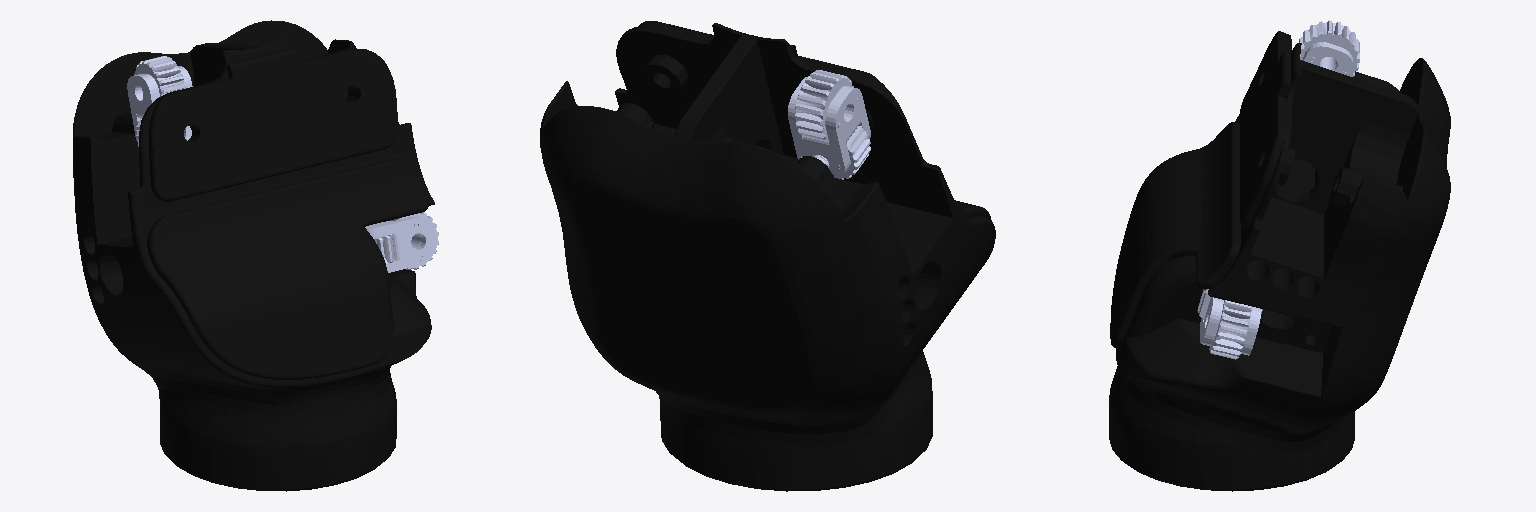
robot.urdf — HX01P1.2_URDF_2025_05_13:
<?xml version="1.0" encoding="utf-8"?>
<!-- This URDF was automatically created by SolidWorks to URDF Exporter! Originally created by [author] ([email redacted]) 
     Commit Version: 1.6.0-4-g7f85cfe  Build Version: 1.6.7995.38578
     For more information, please see http://wiki.ros.org/sw_urdf_exporter -->
<robot
  name="HX01P1.2_URDF_2025_05_13">
  <mujoco>
    <compiler meshdir="..\meshes" balanceinertia="false" discardvisual="false"/>
  </mujoco>
  <link
    name="base_link">
    <inertial>
      <origin
        xyz="-0.000143215433818502 0.0141338183242651 0.0442242892247222"
        rpy="0 0 0" />
      <mass
        value="0.411547465045791" />
      <inertia
        ixx="0.000457197745587714"
        ixy="-1.68236950016941E-05"
        ixz="-3.78293780992953E-06"
        iyy="0.000457189352520219"
        iyz="-0.000116176459874552"
        izz="0.000424192913814888" />
    </inertial>
    <visual>
      <origin
        xyz="0 0 0"
        rpy="0 0 0" />
      <geometry>
        <mesh
          filename="package://HX01P1.2_URDF_2025_05_13/meshes/base_link.STL" />
      </geometry>
      <material
        name="">
        <color
          rgba="0.101960784313725 0.101960784313725 0.101960784313725 1" />
      </material>
    </visual>
    <collision>
      <origin
        xyz="0 0 0"
        rpy="0 0 0" />
      <geometry>
        <mesh
          filename="package://HX01P1.2_URDF_2025_05_13/meshes/base_link.STL" />
      </geometry>
    </collision>
  </link>
  <link
    name="Finger1_MCP_Knuckel">
    <inertial>
      <origin
        xyz="0.00649999999999997 -4.95757603267977E-07 -4.95757603261038E-07"
        rpy="0 0 0" />
      <mass
        value="0.00436140331617378" />
      <inertia
        ixx="1.42005296546262E-07"
        ixy="5.07470404924568E-12"
        ixz="-5.07470404926806E-12"
        iyy="1.59847453396862E-07"
        iyz="-7.49873788604316E-13"
        izz="1.59847453396862E-07" />
    </inertial>
    <visual>
      <origin
        xyz="0 0 0"
        rpy="0 0 0" />
      <geometry>
        <mesh
          filename="package://HX01P1.2_URDF_2025_05_13/meshes/Finger1_MCP_Knuckel.STL" />
      </geometry>
      <material
        name="">
        <color
          rgba="0.792156862745098 0.819607843137255 0.933333333333333 1" />
      </material>
    </visual>
    <collision>
      <origin
        xyz="0 0 0"
        rpy="0 0 0" />
      <geometry>
        <mesh
          filename="package://HX01P1.2_URDF_2025_05_13/meshes/Finger1_MCP_Knuckel.STL" />
      </geometry>
    </collision>
  </link>
  <joint
    name="joint#1_finger1_abad"
    type="revolute">
    <origin
      xyz="0.03 -0.00029814 0.050502"
      rpy="-0.2618 0 0" />
    <parent
      link="base_link" />
    <child
      link="Finger1_MCP_Knuckel" />
    <axis
      xyz="0 0 -1" />
    <limit
      lower="0"
      upper="1.4"
      effort="0"
      velocity="0" />
  </joint>
  <link
    name="Finger1_Proxi_Phalanx">
    <inertial>
      <origin
        xyz="8.04437807129868E-06 0.00913751157403347 0.0219985394784356"
        rpy="0 0 0" />
      <mass
        value="0.0202104744455603" />
      <inertia
        ixx="5.32127743533455E-06"
        ixy="1.26378101777052E-09"
        ixz="2.0970630159864E-09"
        iyy="5.59777226199484E-06"
        iyz="5.34441860232371E-08"
        izz="2.42862434732005E-06" />
    </inertial>
    <visual>
      <origin
        xyz="0 0 0"
        rpy="0 0 0" />
      <geometry>
        <mesh
          filename="package://HX01P1.2_URDF_2025_05_13/meshes/Finger1_Proxi_Phalanx.STL" />
      </geometry>
      <material
        name="">
        <color
          rgba="0.792156862745098 0.819607843137255 0.933333333333333 1" />
      </material>
    </visual>
    <collision>
      <origin
        xyz="0 0 0"
        rpy="0 0 0" />
      <geometry>
        <mesh
          filename="package://HX01P1.2_URDF_2025_05_13/meshes/Finger1_Proxi_Phalanx.STL" />
      </geometry>
    </collision>
  </link>
  <joint
    name="joint#2_finger1_flex1"
    type="revolute">
    <origin
      xyz="0.013 0 0"
      rpy="-1.5708 0 -1.5708" />
    <parent
      link="Finger1_MCP_Knuckel" />
    <child
      link="Finger1_Proxi_Phalanx" />
    <axis
      xyz="1 0 0" />
    <limit
      lower="0"
      upper="2.1"
      effort="0"
      velocity="0" />
  </joint>
  <link
    name="Finger1_Dist_Phalanx">
    <inertial>
      <origin
        xyz="4.96571341867778E-05 0.0071408733600678 0.0180640229989453"
        rpy="0 0 0" />
      <mass
        value="0.0176551853985203" />
      <inertia
        ixx="4.02690213635632E-06"
        ixy="-1.01042023962262E-08"
        ixz="-7.47798915710811E-10"
        iyy="4.21969356707779E-06"
        iyz="-1.82117362318589E-07"
        izz="1.67102176668181E-06" />
    </inertial>
    <visual>
      <origin
        xyz="0 0 0"
        rpy="0 0 0" />
      <geometry>
        <mesh
          filename="package://HX01P1.2_URDF_2025_05_13/meshes/Finger1_Dist_Phalanx.STL" />
      </geometry>
      <material
        name="">
        <color
          rgba="0.792156862745098 0.819607843137255 0.933333333333333 1" />
      </material>
    </visual>
    <collision>
      <origin
        xyz="0 0 0"
        rpy="0 0 0" />
      <geometry>
        <mesh
          filename="package://HX01P1.2_URDF_2025_05_13/meshes/Finger1_Dist_Phalanx.STL" />
      </geometry>
    </collision>
  </link>
  <joint
    name="joint#3_finger1_flex2"
    type="revolute">
    <origin
      xyz="0 0.006 0.0659"
      rpy="0 0 0" />
    <parent
      link="Finger1_Proxi_Phalanx" />
    <child
      link="Finger1_Dist_Phalanx" />
    <axis
      xyz="-1 0 0" />
    <limit
      lower="0"
      upper="2.1"
      effort="0"
      velocity="0" />
  </joint>
  <link
    name="Finger2_Proxi_Phalanx">
    <inertial>
      <origin
        xyz="8.04448574115088E-06 0.0091375125667262 0.0219985390127726"
        rpy="0 0 0" />
      <mass
        value="0.020210475315763" />
      <inertia
        ixx="5.32127733054558E-06"
        ixy="1.26416201137062E-09"
        ixz="2.09727817015598E-09"
        iyy="5.59777205951082E-06"
        iyz="5.34444272839264E-08"
        izz="2.42862435983311E-06" />
    </inertial>
    <visual>
      <origin
        xyz="0 0 0"
        rpy="0 0 0" />
      <geometry>
        <mesh
          filename="package://HX01P1.2_URDF_2025_05_13/meshes/Finger2_Proxi_Phalanx.STL" />
      </geometry>
      <material
        name="">
        <color
          rgba="0.792156862745098 0.819607843137255 0.933333333333333 1" />
      </material>
    </visual>
    <collision>
      <origin
        xyz="0 0 0"
        rpy="0 0 0" />
      <geometry>
        <mesh
          filename="package://HX01P1.2_URDF_2025_05_13/meshes/Finger2_Proxi_Phalanx.STL" />
      </geometry>
    </collision>
  </link>
  <joint
    name="joint#4_finger2_flex1"
    type="revolute">
    <origin
      xyz="0.03 0.027125 0.10334"
      rpy="-0.34907 0 0" />
    <parent
      link="base_link" />
    <child
      link="Finger2_Proxi_Phalanx" />
    <axis
      xyz="1 0 0" />
    <limit
      lower="0"
      upper="2.1"
      effort="0"
      velocity="0" />
  </joint>
  <link
    name="Finger2_Dist_Phalanx">
    <inertial>
      <origin
        xyz="4.96543147745637E-05 0.00714087589106065 0.0180640063475071"
        rpy="0 0 0" />
      <mass
        value="0.017655175308132" />
      <inertia
        ixx="4.02689920264768E-06"
        ixy="-1.01046485372329E-08"
        ixz="-7.46802878445269E-10"
        iyy="4.21968941110657E-06"
        iyz="-1.82117885239304E-07"
        izz="1.67102281536553E-06" />
    </inertial>
    <visual>
      <origin
        xyz="0 0 0"
        rpy="0 0 0" />
      <geometry>
        <mesh
          filename="package://HX01P1.2_URDF_2025_05_13/meshes/Finger2_Dist_Phalanx.STL" />
      </geometry>
      <material
        name="">
        <color
          rgba="0.792156862745098 0.819607843137255 0.933333333333333 1" />
      </material>
    </visual>
    <collision>
      <origin
        xyz="0 0 0"
        rpy="0 0 0" />
      <geometry>
        <mesh
          filename="package://HX01P1.2_URDF_2025_05_13/meshes/Finger2_Dist_Phalanx.STL" />
      </geometry>
    </collision>
  </link>
  <joint
    name="joint#5_finger2_flex2"
    type="revolute">
    <origin
      xyz="0 0.006 0.0659"
      rpy="0 0 0" />
    <parent
      link="Finger2_Proxi_Phalanx" />
    <child
      link="Finger2_Dist_Phalanx" />
    <axis
      xyz="-1 0 0" />
    <limit
      lower="0"
      upper="2.1"
      effort="0"
      velocity="0" />
  </joint>
  <link
    name="Finger3_MCP_Knuckel">
    <inertial>
      <origin
        xyz="4.95757603306141E-07 4.95757603160424E-07 0.00650000000000001"
        rpy="0 0 0" />
      <mass
        value="0.00436140331617378" />
      <inertia
        ixx="1.59847453396862E-07"
        ixy="-7.4987378861667E-13"
        ixz="-5.07470404925765E-12"
        iyy="1.59847453396862E-07"
        iyz="5.07470404926168E-12"
        izz="1.42005296546262E-07" />
    </inertial>
    <visual>
      <origin
        xyz="0 0 0"
        rpy="0 0 0" />
      <geometry>
        <mesh
          filename="package://HX01P1.2_URDF_2025_05_13/meshes/Finger3_MCP_Knuckel.STL" />
      </geometry>
      <material
        name="">
        <color
          rgba="0.792156862745098 0.819607843137255 0.933333333333333 1" />
      </material>
    </visual>
    <collision>
      <origin
        xyz="0 0 0"
        rpy="0 0 0" />
      <geometry>
        <mesh
          filename="package://HX01P1.2_URDF_2025_05_13/meshes/Finger3_MCP_Knuckel.STL" />
      </geometry>
    </collision>
  </link>
  <joint
    name="joint#6_finger3_abad"
    type="revolute">
    <origin
      xyz="-0.024 0.022678 0.091124"
      rpy="-0.34907 0 0" />
    <parent
      link="base_link" />
    <child
      link="Finger3_MCP_Knuckel" />
    <axis
      xyz="0 1 0" />
    <limit
      lower="-0.79"
      upper="0.26"
      effort="0"
      velocity="0" />
  </joint>
  <link
    name="Finger3_Proxi_Phalanx">
    <inertial>
      <origin
        xyz="8.04448574123068E-06 0.00913751256672598 0.0219985390127725"
        rpy="0 0 0" />
      <mass
        value="0.020210475315763" />
      <inertia
        ixx="5.32127733054557E-06"
        ixy="1.26416201137047E-09"
        ixz="2.09727817015492E-09"
        iyy="5.59777205951081E-06"
        iyz="5.34444272839268E-08"
        izz="2.42862435983311E-06" />
    </inertial>
    <visual>
      <origin
        xyz="0 0 0"
        rpy="0 0 0" />
      <geometry>
        <mesh
          filename="package://HX01P1.2_URDF_2025_05_13/meshes/Finger3_Proxi_Phalanx.STL" />
      </geometry>
      <material
        name="">
        <color
          rgba="0.792156862745098 0.819607843137255 0.933333333333333 1" />
      </material>
    </visual>
    <collision>
      <origin
        xyz="0 0 0"
        rpy="0 0 0" />
      <geometry>
        <mesh
          filename="package://HX01P1.2_URDF_2025_05_13/meshes/Finger3_Proxi_Phalanx.STL" />
      </geometry>
    </collision>
  </link>
  <joint
    name="joint#7_finger3_flex1"
    type="revolute">
    <origin
      xyz="0 0 0.013"
      rpy="0 0 0" />
    <parent
      link="Finger3_MCP_Knuckel" />
    <child
      link="Finger3_Proxi_Phalanx" />
    <axis
      xyz="1 0 0" />
    <limit
      lower="0"
      upper="2.1"
      effort="0"
      velocity="0" />
  </joint>
  <link
    name="Finger3_Dist_Phalanx">
    <inertial>
      <origin
        xyz="4.96543147744909E-05 0.00714087589106031 0.0180640063475071"
        rpy="0 0 0" />
      <mass
        value="0.017655175308132" />
      <inertia
        ixx="4.02689920264775E-06"
        ixy="-1.01046485372319E-08"
        ixz="-7.46802878440764E-10"
        iyy="4.21968941110661E-06"
        iyz="-1.82117885239176E-07"
        izz="1.67102281536556E-06" />
    </inertial>
    <visual>
      <origin
        xyz="0 0 0"
        rpy="0 0 0" />
      <geometry>
        <mesh
          filename="package://HX01P1.2_URDF_2025_05_13/meshes/Finger3_Dist_Phalanx.STL" />
      </geometry>
      <material
        name="">
        <color
          rgba="0.792156862745098 0.819607843137255 0.933333333333333 1" />
      </material>
    </visual>
    <collision>
      <origin
        xyz="0 0 0"
        rpy="0 0 0" />
      <geometry>
        <mesh
          filename="package://HX01P1.2_URDF_2025_05_13/meshes/Finger3_Dist_Phalanx.STL" />
      </geometry>
    </collision>
  </link>
  <joint
    name="joint#8_finger3_flex2"
    type="revolute">
    <origin
      xyz="0 0.006 0.0659"
      rpy="0 0 0" />
    <parent
      link="Finger3_Proxi_Phalanx" />
    <child
      link="Finger3_Dist_Phalanx" />
    <axis
      xyz="-1 0 0" />
    <limit
      lower="0"
      upper="2.1"
      effort="0"
      velocity="0" />
  </joint>
</robot>

--- What the picture shows (computed from the rendered views, not written in the file) ---
Views: 3 orthographic renders of the robot side by side, from view 1: azimuth 30°, elevation 25°; view 2: azimuth 150°, elevation 25°; view 3: azimuth 270°, elevation 25°.
Robot: HX01P1.2_URDF_2025_05_13 — 9 links, 8 joints (8 revolute); root link base_link; default pose: every joint at zero.
Visible links, largest first — view 1: base_link, Finger1_MCP_Knuckel, Finger3_MCP_Knuckel; view 2: base_link, Finger3_MCP_Knuckel; view 3: base_link, Finger1_MCP_Knuckel, Finger3_MCP_Knuckel.
Link boxes in pixels (left/top/right/bottom): base_link: left=73, top=20, right=434, bottom=491; Finger1_MCP_Knuckel: left=365, top=212, right=438, bottom=272; Finger3_MCP_Knuckel: left=127, top=56, right=192, bottom=146; base_link: left=540, top=21, right=995, bottom=491; Finger3_MCP_Knuckel: left=788, top=70, right=870, bottom=179; base_link: left=1109, top=31, right=1450, bottom=491; Finger1_MCP_Knuckel: left=1197, top=289, right=1262, bottom=359; Finger3_MCP_Knuckel: left=1299, top=20, right=1359, bottom=76.
Bounding box of the posed robot: 0.0991 × 0.0958 × 0.1197 m (x, y, z).
Meshes: 9 distinct files referenced, 3 mesh visuals loaded (3 binary STL); not drawn: 6 (reference not matched to a file when rendering).